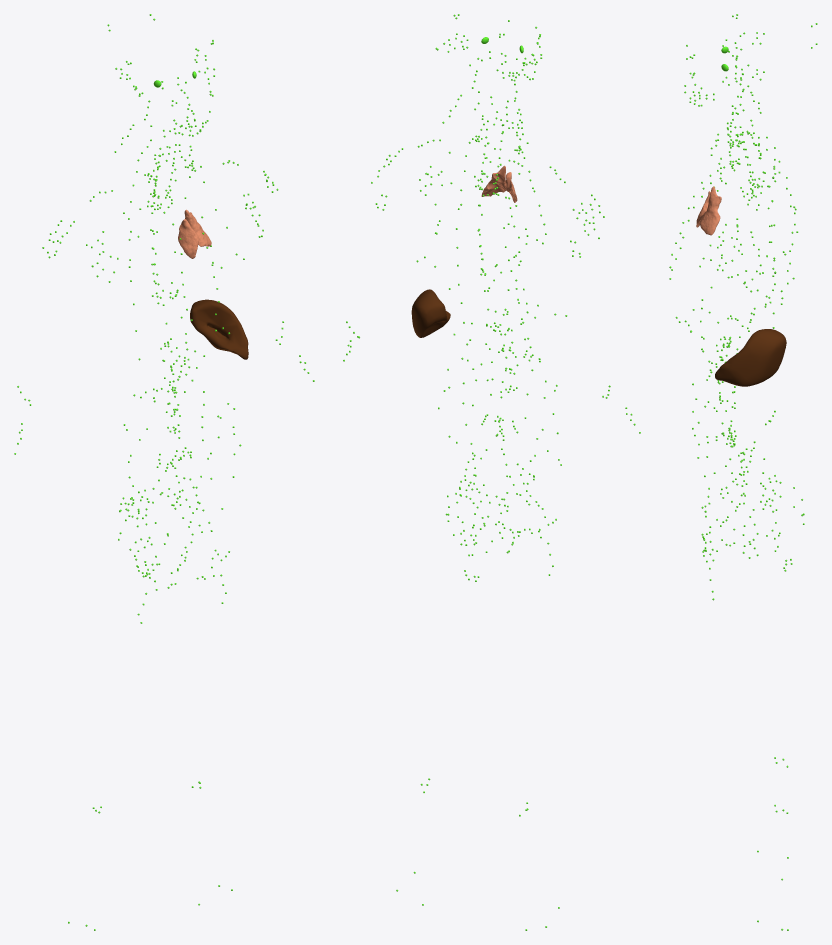
The model's file is detail-lymphatic.glb.
3 renders of one model, left to right at view 1: azimuth 30°, elevation 25°; view 2: azimuth 150°, elevation 25°; view 3: azimuth 270°, elevation 25°, orthographic.
Parts seen in each view (by area): view 1: lymph-157; view 2: lymph-157; view 3: lymph-157, lymph-0.
Part boxes in pixels (x1,y1,x2,y2): lymph-157: [190, 299, 248, 359]; lymph-157: [411, 289, 450, 337]; lymph-157: [715, 329, 786, 386]; lymph-0: [699, 186, 721, 235].
Size of the model in its own units: 0.4523 by 1.28 by 0.1963.
